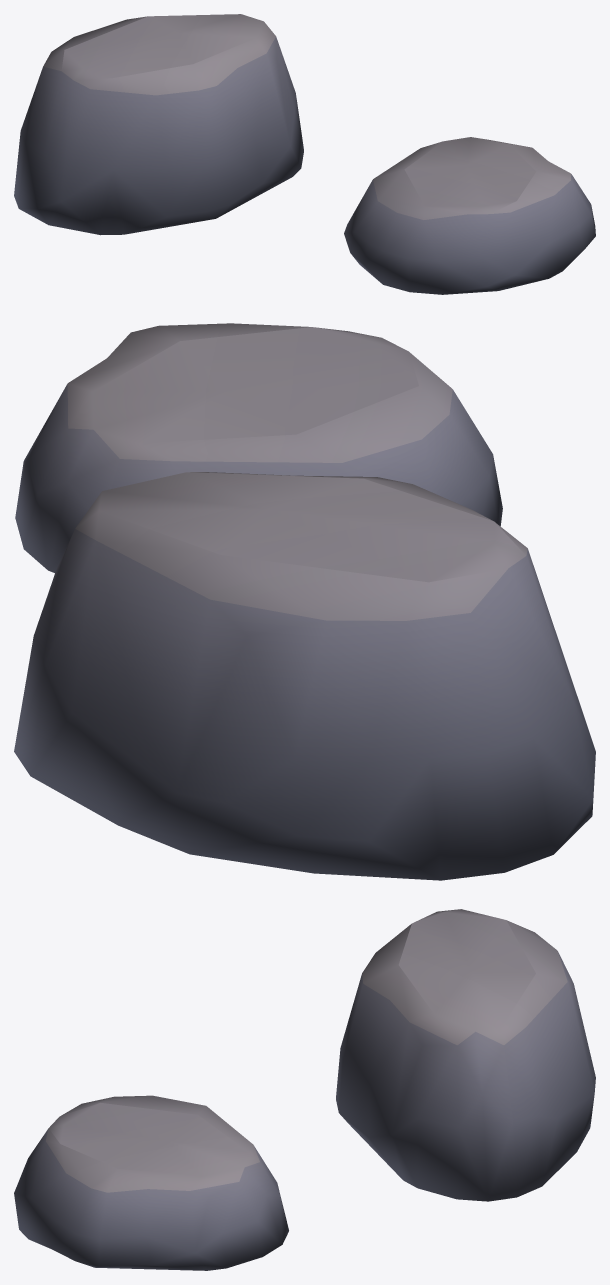
Rendered from Stone.gltf.
The picture shows the model from 3 angles, top to bottom: view 1: azimuth 30°, elevation 25°; view 2: azimuth 150°, elevation 25°; view 3: azimuth 270°, elevation 25°; orthographic projection. The views are drawn at different scales.
Parts seen in each view (by area): view 1: Stone; view 2: Stone; view 3: Stone.
Part boxes in pixels (bbox=[...]): Stone: bbox=[14, 14, 595, 294]; Stone: bbox=[14, 323, 595, 880]; Stone: bbox=[14, 909, 595, 1270].
Size of the model in its own units: 0.75 by 0.2495 by 0.8097.
1 material, 1 textured.
